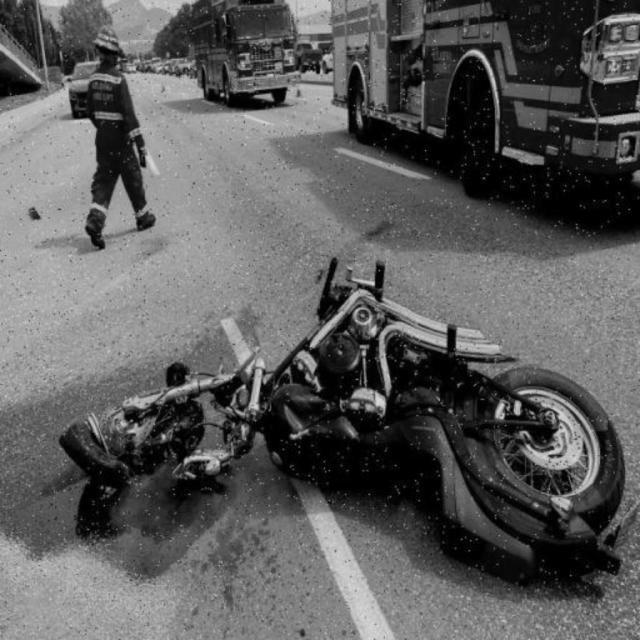accident: (63, 264, 613, 545)
person: (86, 27, 154, 243)
vehicle: (338, 2, 639, 182), (195, 1, 303, 103)
